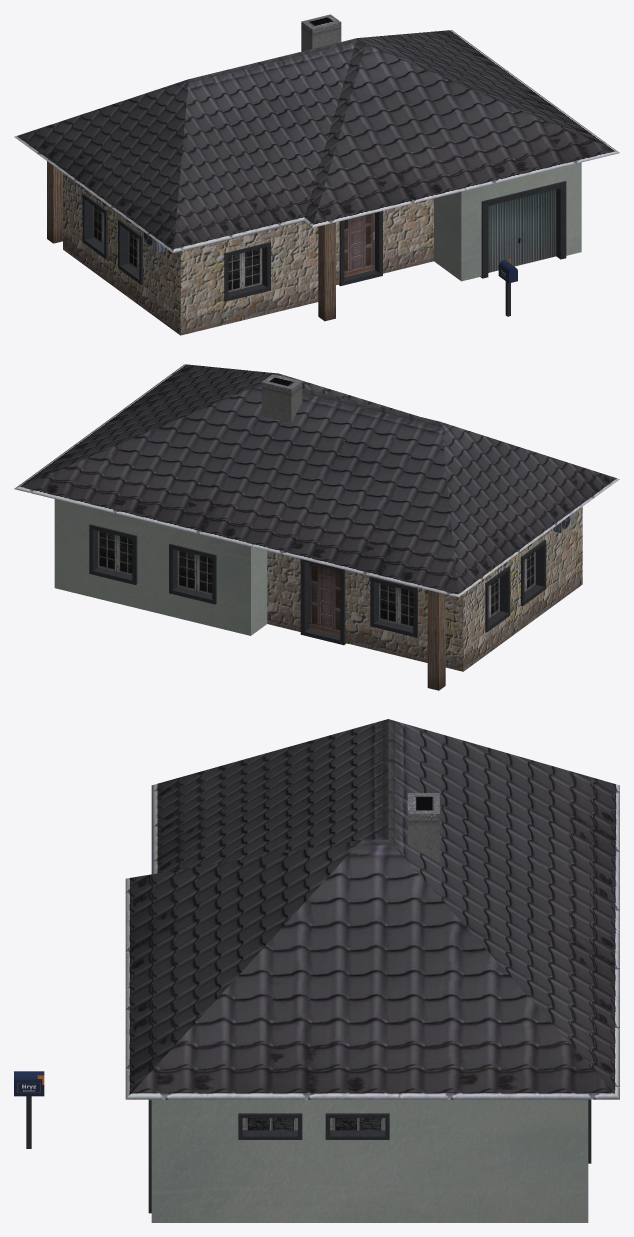
The model's file is casa1-b.glb.
The picture shows the model from 3 angles, top to bottom: view 1: azimuth 30°, elevation 25°; view 2: azimuth 150°, elevation 25°; view 3: azimuth 270°, elevation 25°; orthographic projection. The views are drawn at different scales.
Parts seen in each view (by area): view 1: Casa, CaixaCorreio; view 2: Casa; view 3: Casa, CaixaCorreio.
Boxes of the visible parts, <box> form: Casa: <box>14,14,619,335</box>; CaixaCorreio: <box>498,259,517,316</box>; Casa: <box>14,364,619,690</box>; Casa: <box>125,719,619,1222</box>; CaixaCorreio: <box>14,1071,44,1148</box>.
Size of the model in its own units: 12.32 by 5.6 by 10.04.
Materials: 5 (2 with a texture image).
